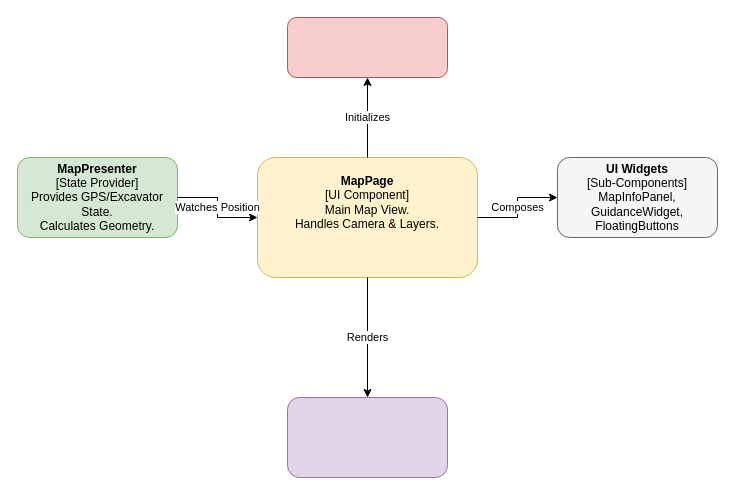
Image size: 735x495. Some labels were removed from this diagram. The centre of each missing label's shape, as x and y in pixels:
"MapController [Local State] Controls Camera & Layers." goes at pixel 367 47.
"MapLibreMap [External Widget] Renders Map & Layers." goes at pixel 367 437.
